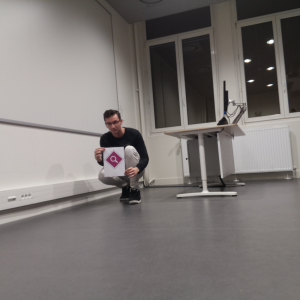search: (105, 150, 123, 168)
